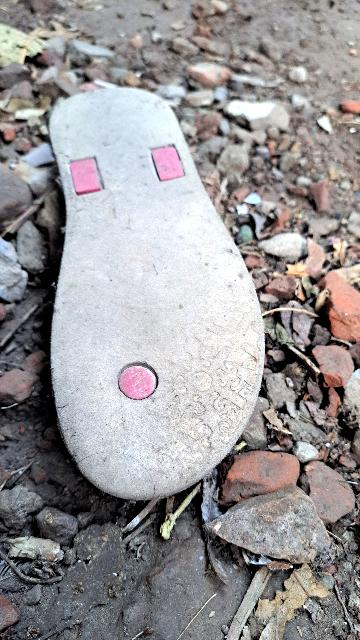sandal: (28, 79, 271, 509)
